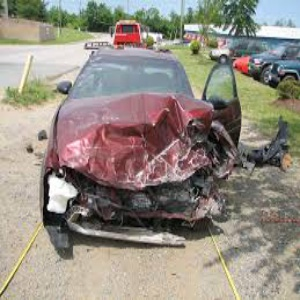bonnet: (82, 96, 210, 176)
bumper: (77, 176, 232, 262)
